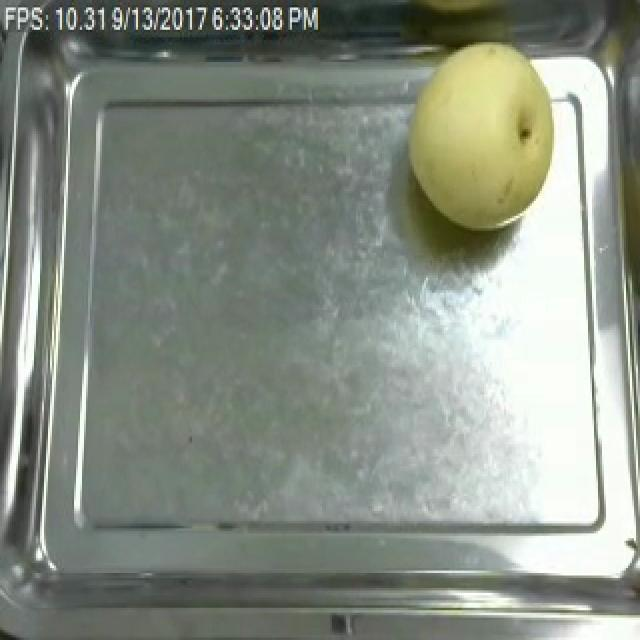Fruit: (396, 35, 570, 238)
